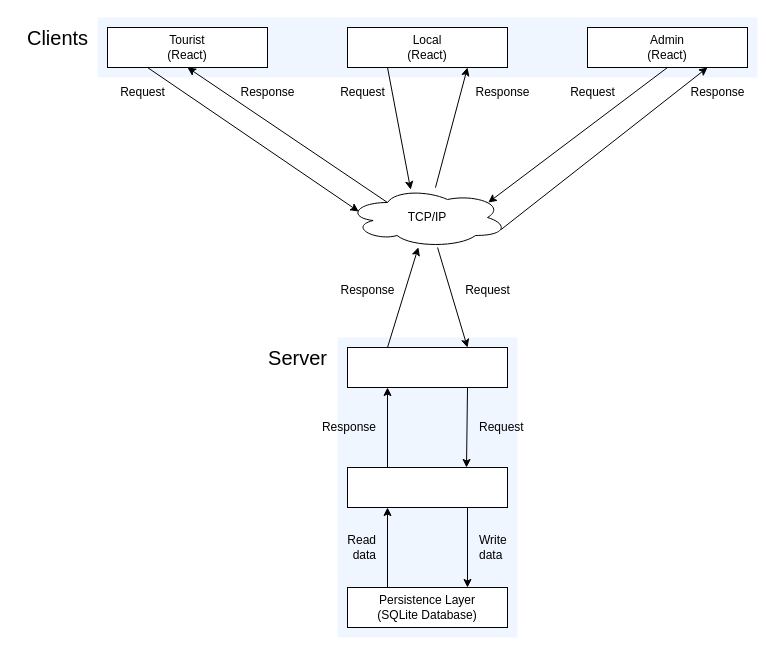
This 774x654 diagram has some shape labels left out. The centre of each missing label's shape, as x and y in pixels:
"Logic Layer (Go functions)" goes at [427,487].
"Presentation Layer (Go REST API)" goes at [427,367].
